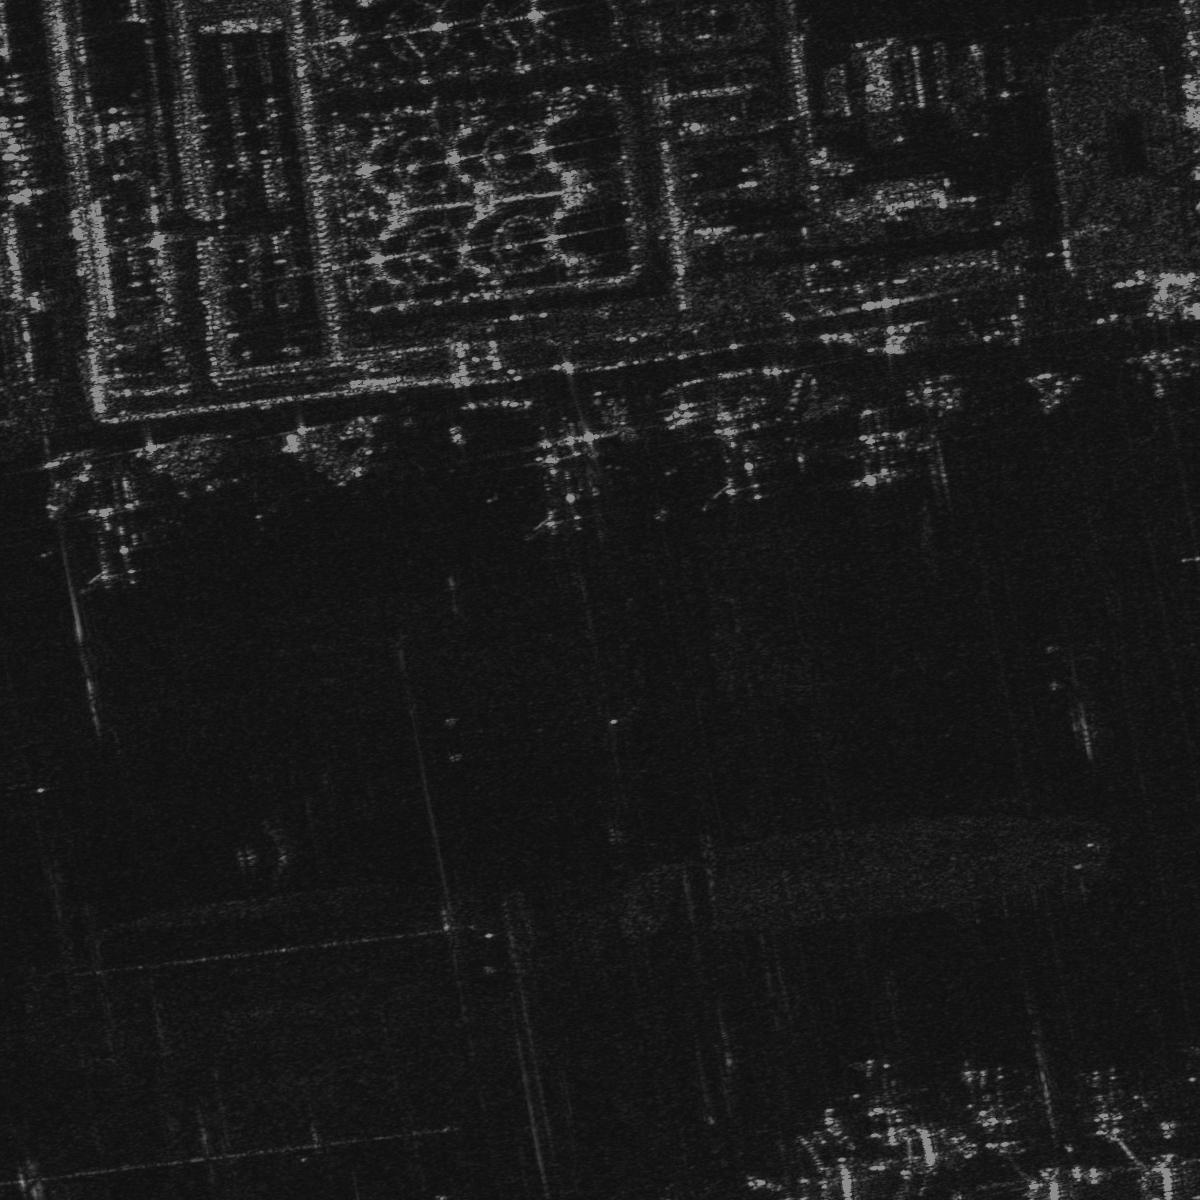A220: (845, 1057, 933, 1145), (956, 1064, 1038, 1155), (1073, 1062, 1153, 1145)
other: (495, 433, 640, 537), (667, 407, 807, 511), (838, 401, 920, 487)
